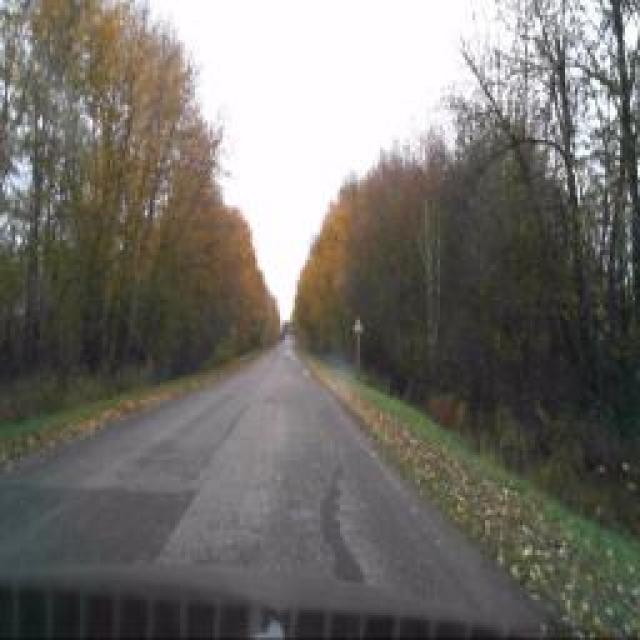sign: (352, 315, 362, 333)
